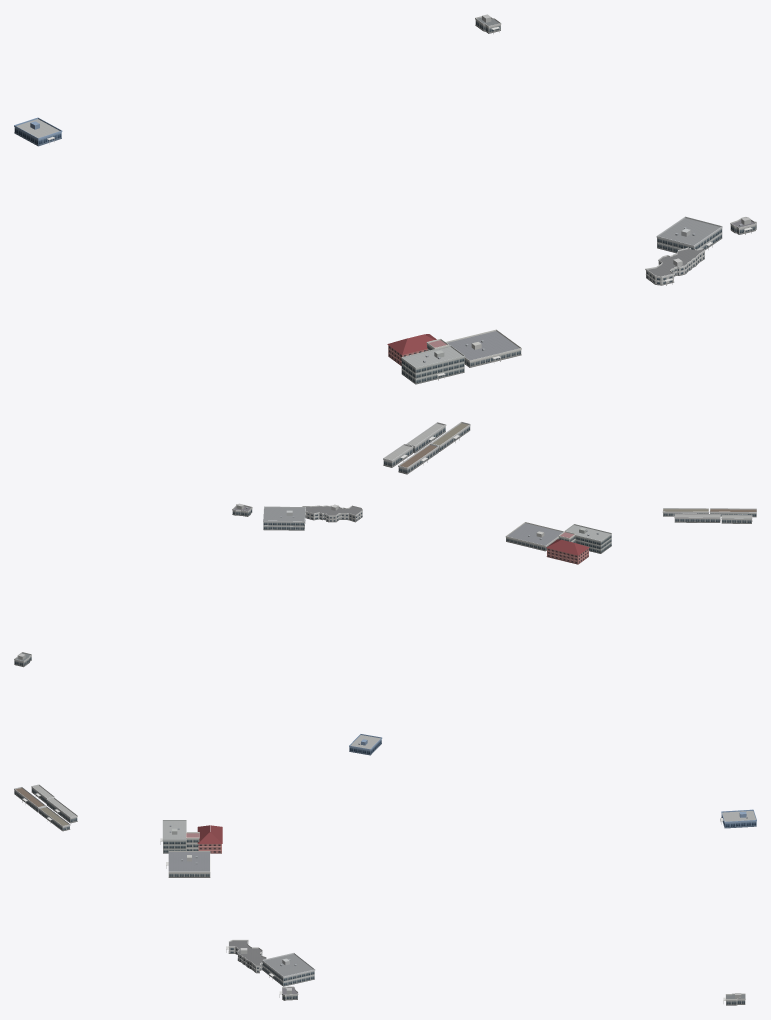
3 views of the same model, one above another, from view 1: azimuth 30°, elevation 25°; view 2: azimuth 150°, elevation 25°; view 3: azimuth 270°, elevation 25° (orthographic). The views are drawn at different scales.
Visible parts, largest first — view 1: manual-31, manual-32, 1316302535, scan-098, 1424986306, manual-30; view 2: manual-32, 1316302535, scan-098, manual-31, manual-30, 1424986306, sy-shed-3; view 3: 1316302535, manual-32, scan-098, manual-31, manual-30, 1424986306, sy-shed-3.
Part boxes in pixels (x1=…): manual-31: x1=401, y1=345, x2=464, y2=384; manual-32: x1=446, y1=329, x2=521, y2=367; 1316302535: x1=656, y1=216, x2=722, y2=253; scan-098: x1=645, y1=247, x2=705, y2=285; 1424986306: x1=14, y1=117, x2=62, y2=146; manual-30: x1=387, y1=334, x2=436, y2=365; manual-32: x1=505, y1=522, x2=563, y2=551; 1316302535: x1=263, y1=506, x2=305, y2=530; scan-098: x1=302, y1=504, x2=362, y2=522; manual-31: x1=563, y1=524, x2=611, y2=553; manual-30: x1=546, y1=539, x2=589, y2=564; 1424986306: x1=349, y1=734, x2=382, y2=755; sy-shed-3: x1=674, y1=513, x2=720, y2=522; 1316302535: x1=262, y1=952, x2=315, y2=986; manual-32: x1=166, y1=851, x2=210, y2=877; scan-098: x1=226, y1=939, x2=266, y2=973; manual-31: x1=160, y1=820, x2=186, y2=853; manual-30: x1=197, y1=825, x2=222, y2=853; 1424986306: x1=720, y1=809, x2=756, y2=828; sy-shed-3: x1=46, y1=797, x2=77, y2=823.
Bounding box in the file's own units: 394 × 14.36 × 575.
5 materials, 4 textured.
